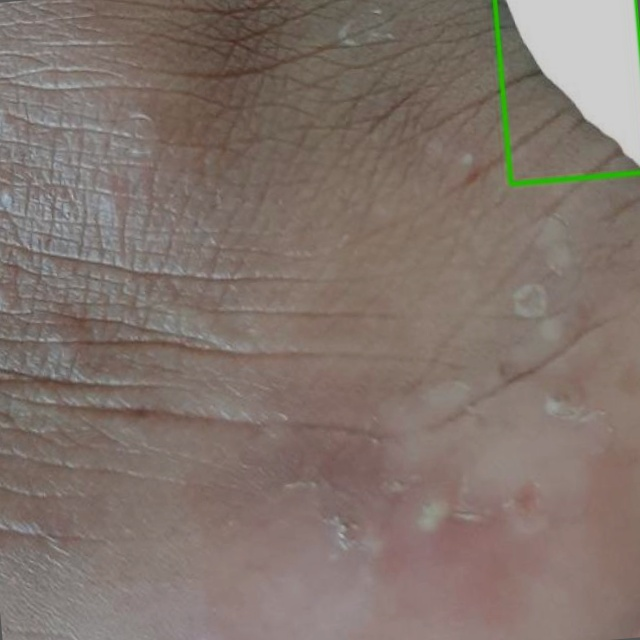Scabies: (494, 0, 639, 183)
